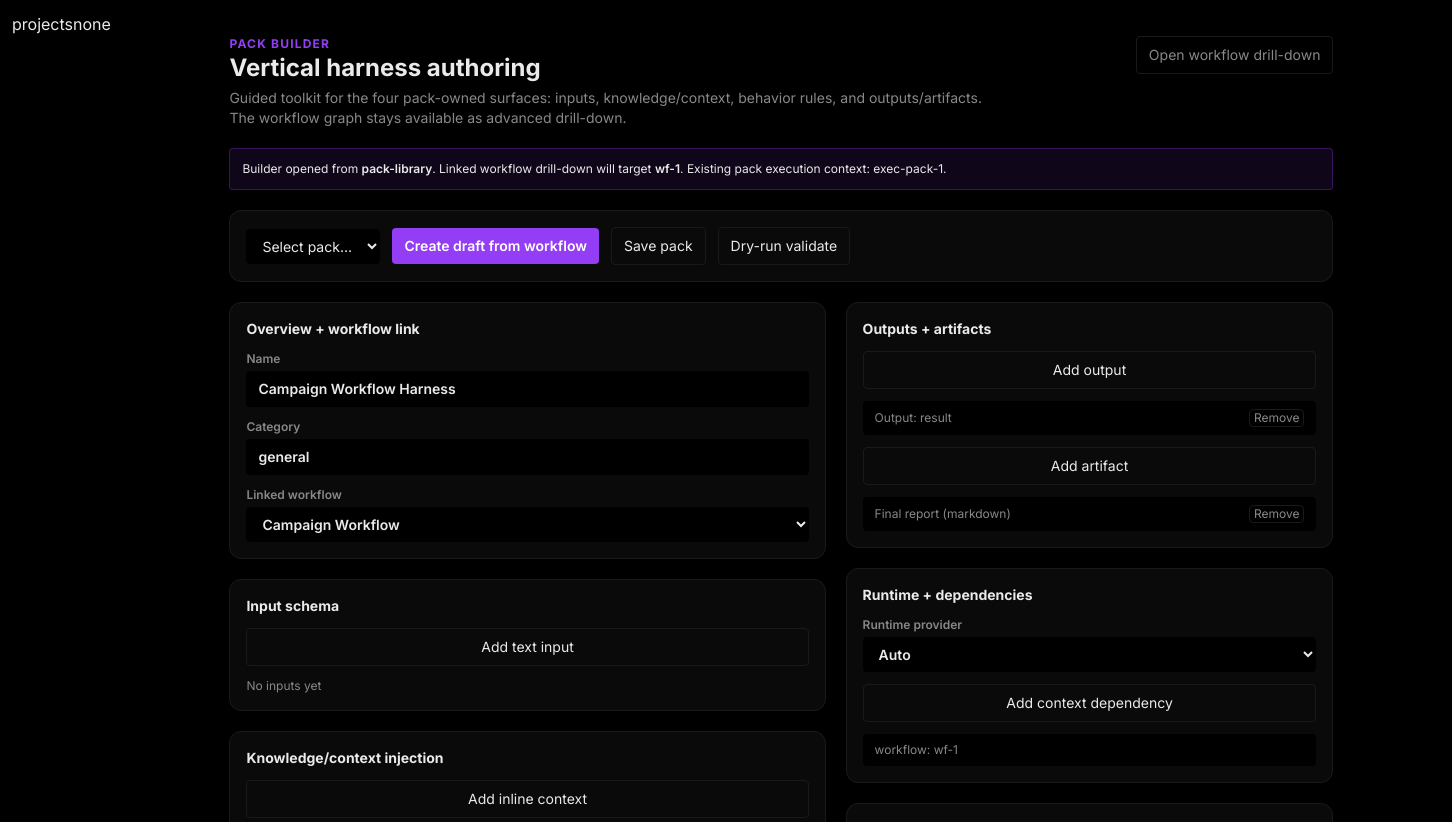
Scenario: PackBuilderView › opens the intended pack from navigation intent and passes linked workflow drill-down context
Check: the heading "Vertical harness authoring" is shown, box [229, 53, 541, 82]
Check: the field showing "Campaign Workflow Harness" is shown, box [246, 371, 809, 407]
Click the button "Open workflow drill-down": (1235, 55) [1136, 36, 1334, 74]
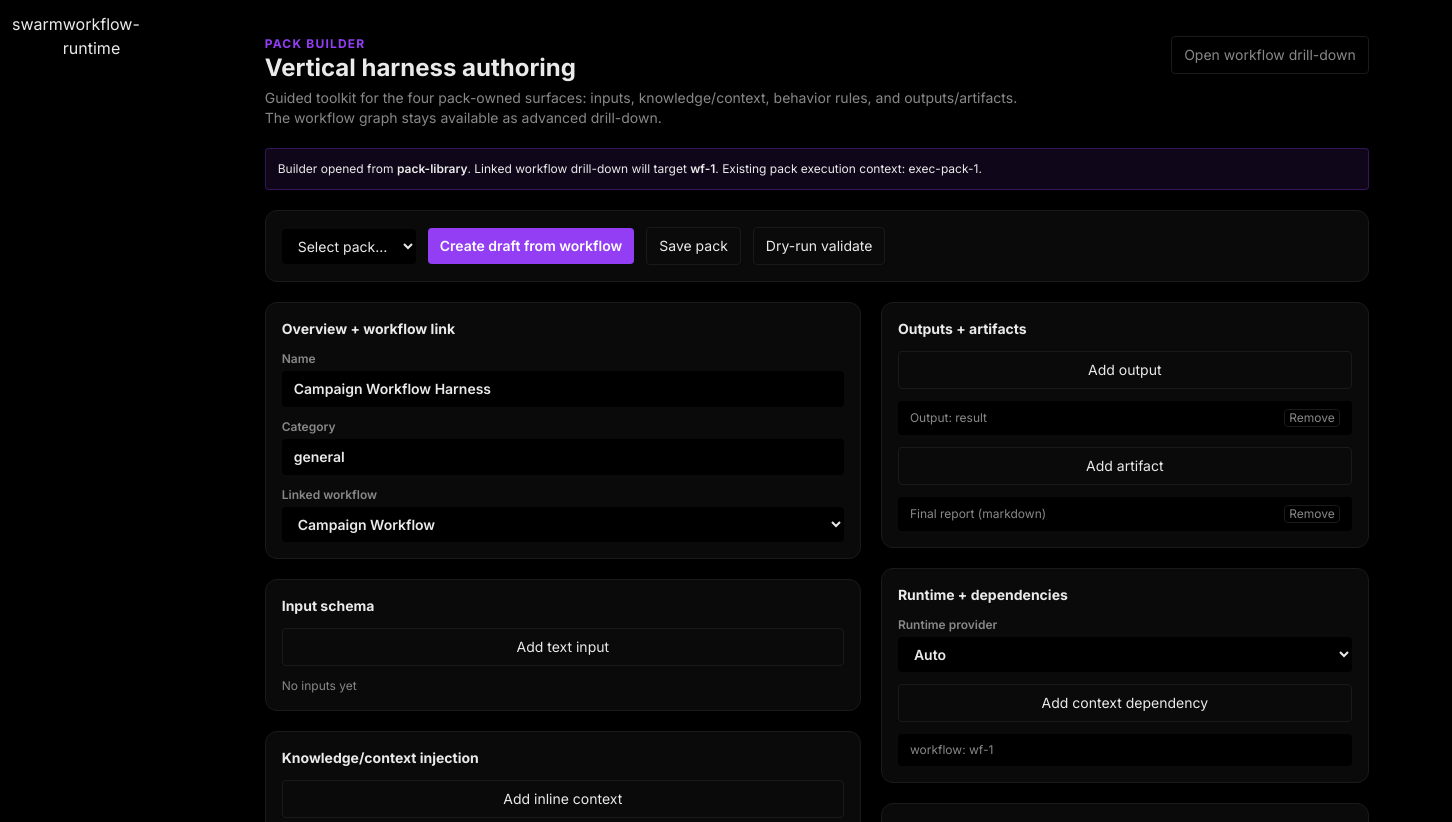
Check: the text with test id "current-view" reads "swarm", box [12, 14, 63, 34]
Check: the text with test id "nav-focus" reads "workflow-runtime", box [63, 14, 140, 58]
